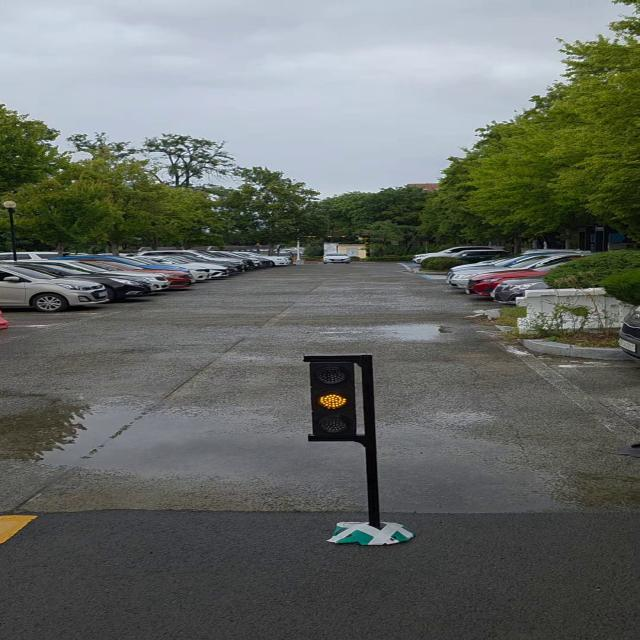yellow: (310, 357, 357, 439)
